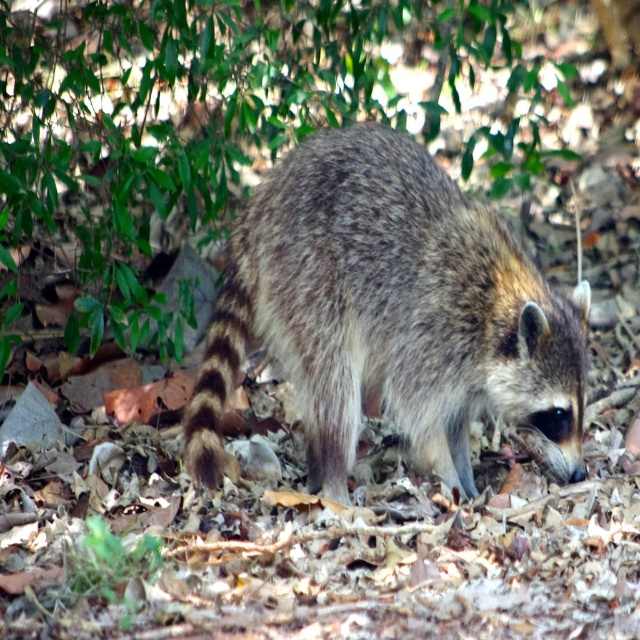Raccoon: (182, 119, 590, 506)
